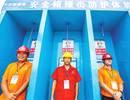helmet: (17, 46, 29, 54), (63, 52, 74, 59), (103, 54, 113, 61)
